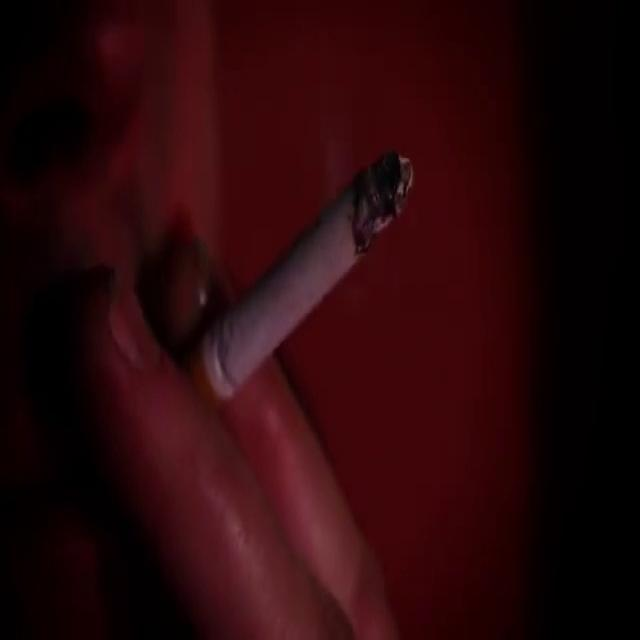fire: (334, 148, 428, 262)
